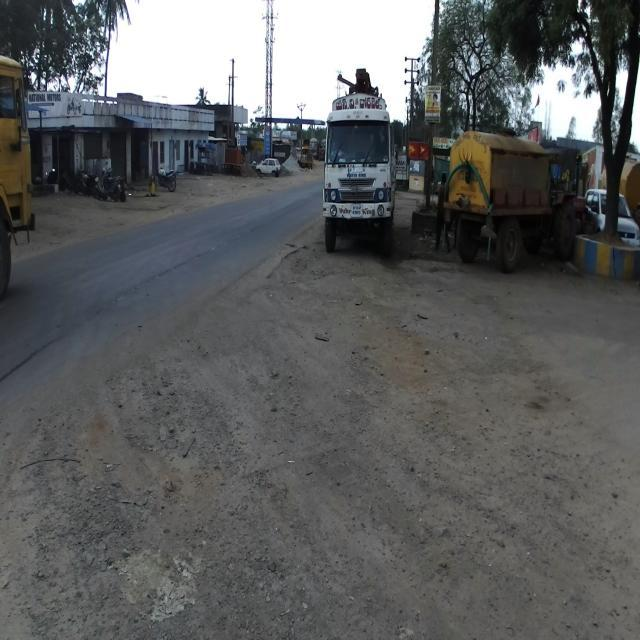pothole: (98, 364, 221, 640), (2, 413, 92, 640), (310, 303, 450, 431), (264, 228, 318, 292)
